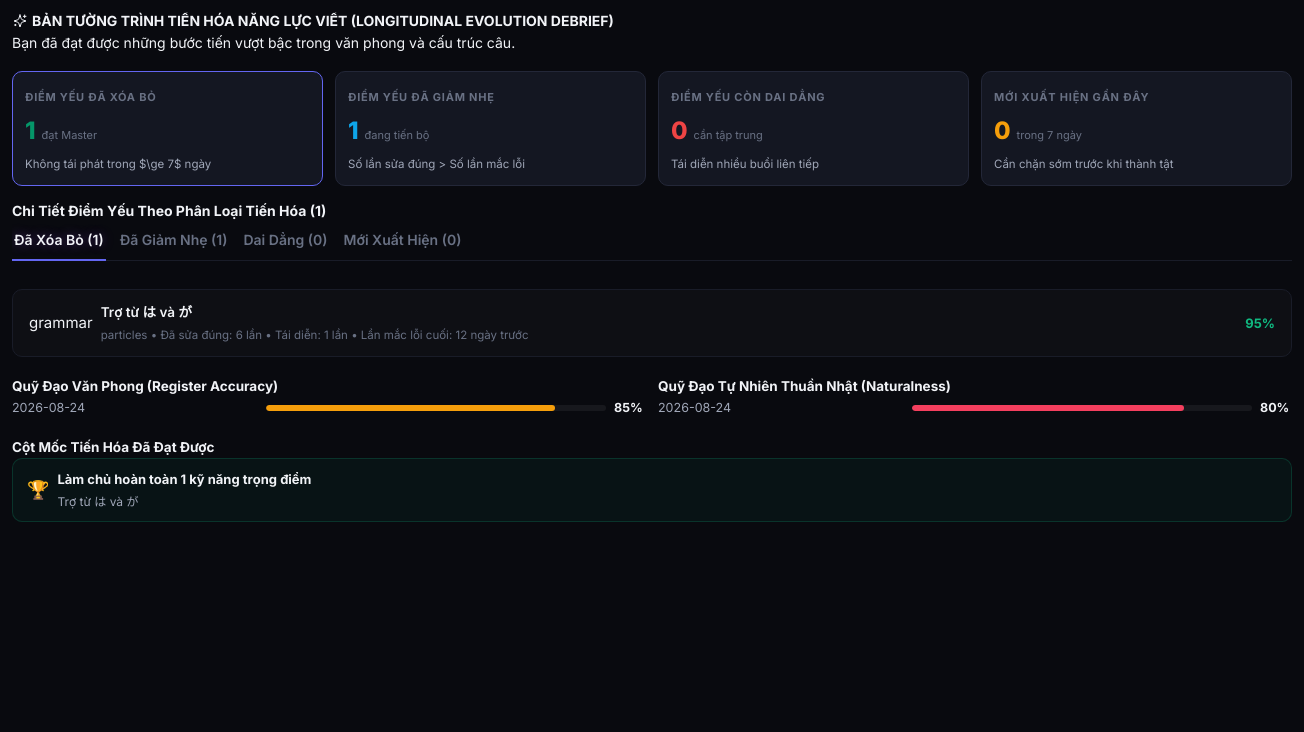
Test: Phase 23 Writing Mastery & Boss Assessment UI › renders Writing Evolution Timeline with eliminated and reduced categories
This screenshot has width=1304, height=732.
expect the text "BẢN TƯỜNG TRÌNH TIẾN HÓA NĂNG LỰC VIẾT" is shown: met, box x1=32 y1=12 x2=614 y2=29
expect the text "Bạn đã đạt được những bước tiến vượt bậc" is shown: met, box x1=12 y1=34 x2=515 y2=51
// Switch tab to reduced
Click the tab "Đã Giảm Nhẹ (1)". click: (174, 241)
box: x1=118 y1=221 x2=229 y2=262
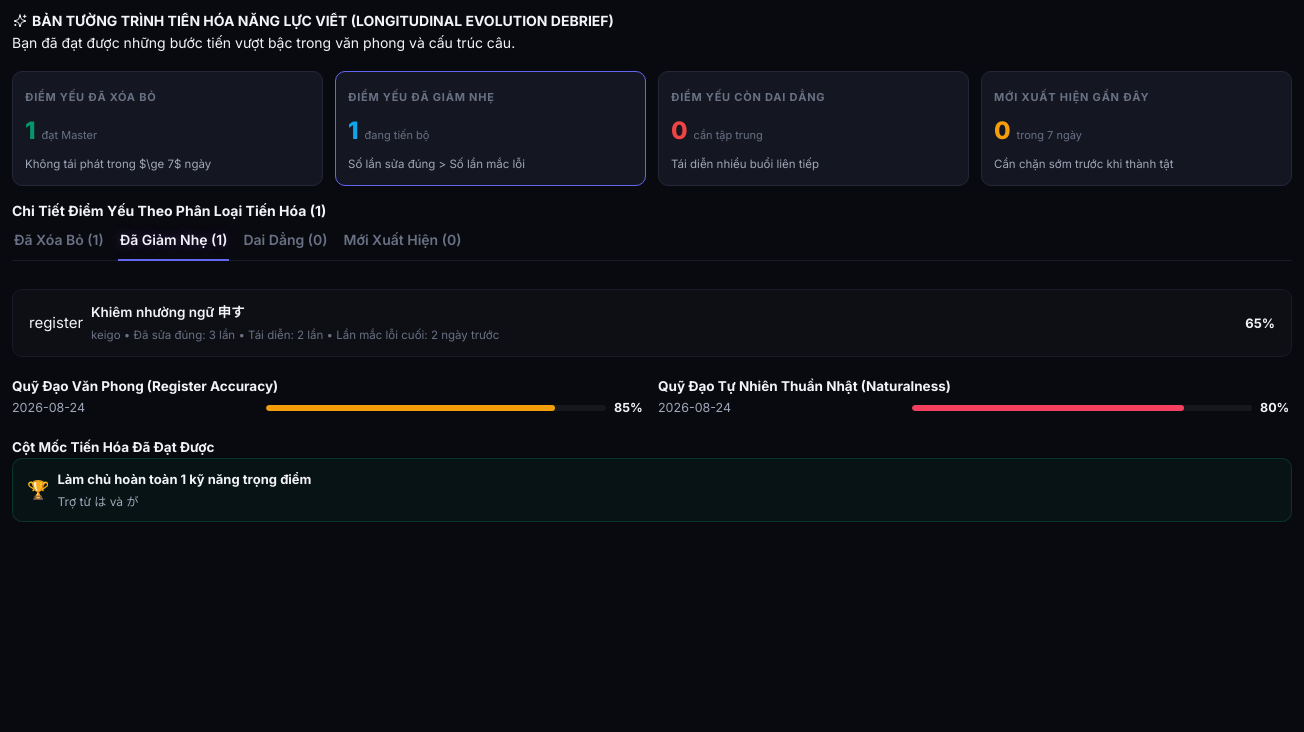
expect the text "Khiêm nhường ngữ 申す" is shown: met, box x1=91 y1=304 x2=245 y2=320
